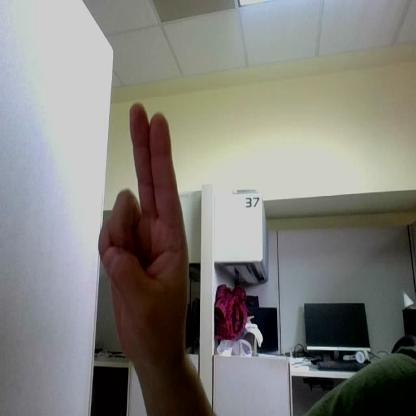U: (99, 102, 188, 357)
